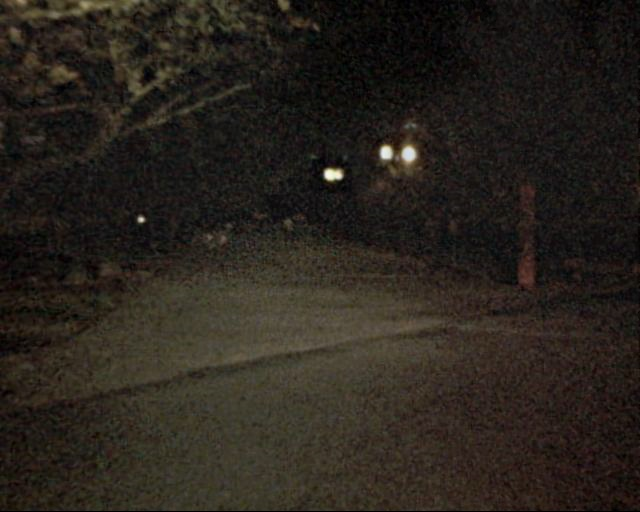person: (278, 213, 297, 259)
